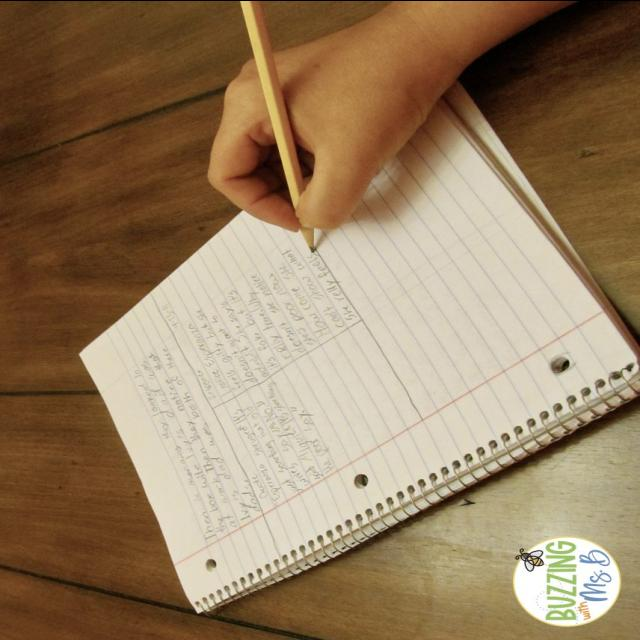notebook: (38, 45, 639, 636)
